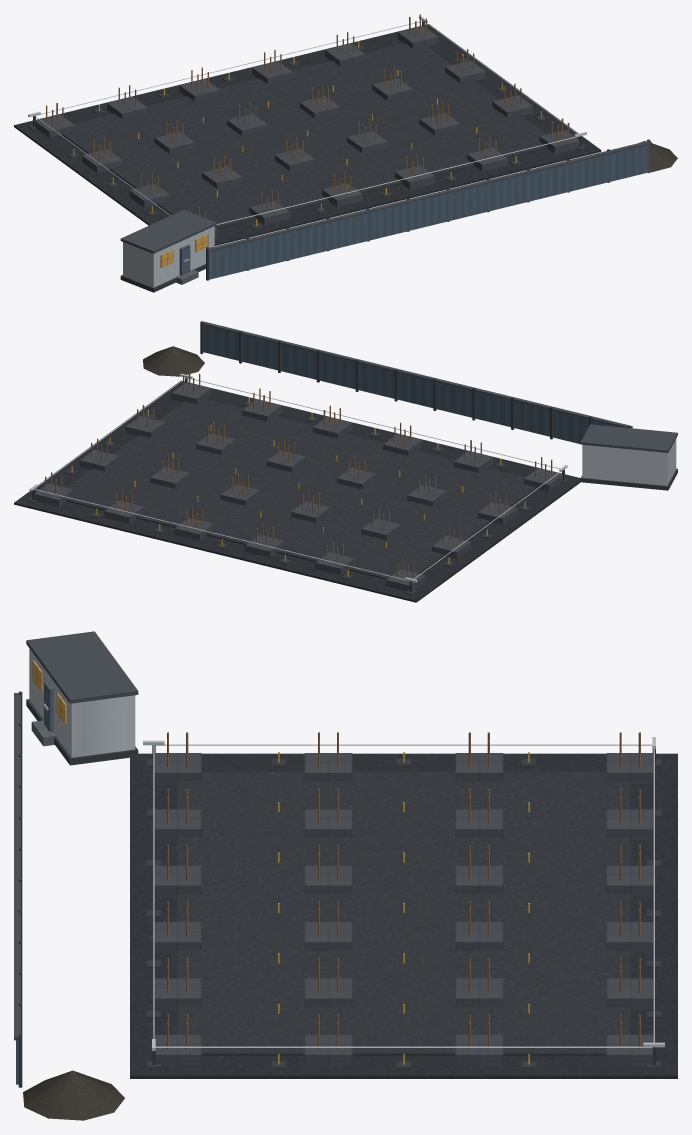
Rendered from trg-3-site.glb.
The picture shows the model from 3 angles, top to bottom: view 1: azimuth 30°, elevation 25°; view 2: azimuth 150°, elevation 25°; view 3: azimuth 270°, elevation 25°; orthographic projection. The views are drawn at different scales.
Size of the model in its own units: 42.06 by 3.1 by 27.87.
17 materials, 9 textured.
